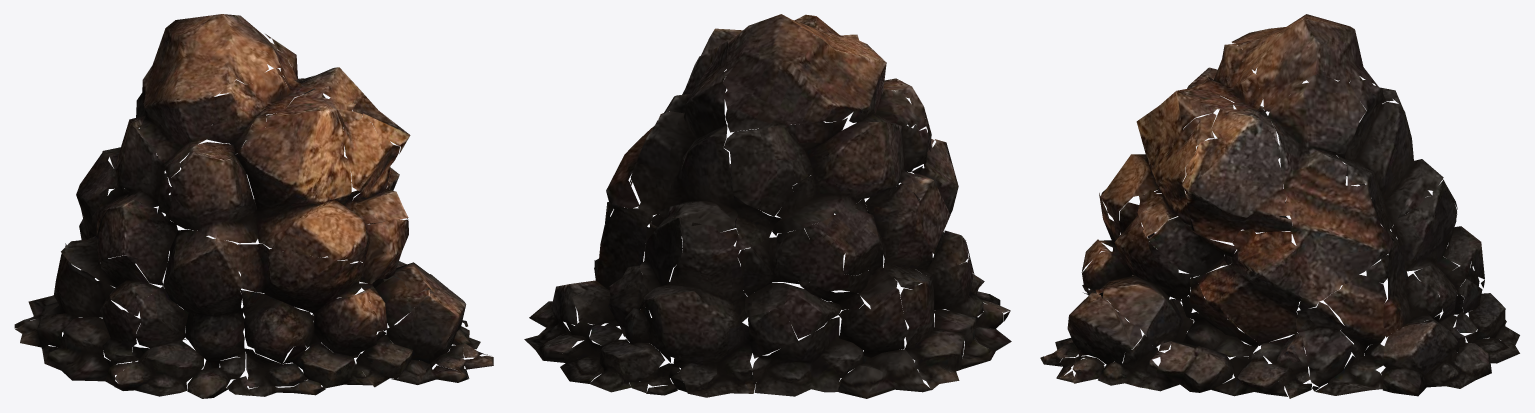
File: dep_iron.glb
3 renders of one model, left to right at view 1: azimuth 30°, elevation 25°; view 2: azimuth 150°, elevation 25°; view 3: azimuth 270°, elevation 25°, orthographic. The views are drawn at different scales.
Visible parts, largest first — view 1: tripo_node_9a13633b-48d9-41b4-8d25-768caf90ae5f; view 2: tripo_node_9a13633b-48d9-41b4-8d25-768caf90ae5f; view 3: tripo_node_9a13633b-48d9-41b4-8d25-768caf90ae5f.
Boxes of the visible parts, box(x1,y1,x2,y2) form: tripo_node_9a13633b-48d9-41b4-8d25-768caf90ae5f: box(14, 14, 493, 398); tripo_node_9a13633b-48d9-41b4-8d25-768caf90ae5f: box(524, 14, 1011, 398); tripo_node_9a13633b-48d9-41b4-8d25-768caf90ae5f: box(1040, 14, 1519, 398).
Bounding box in the file's own units: 0.8884 × 0.67 × 1.
1 material, 1 textured.
